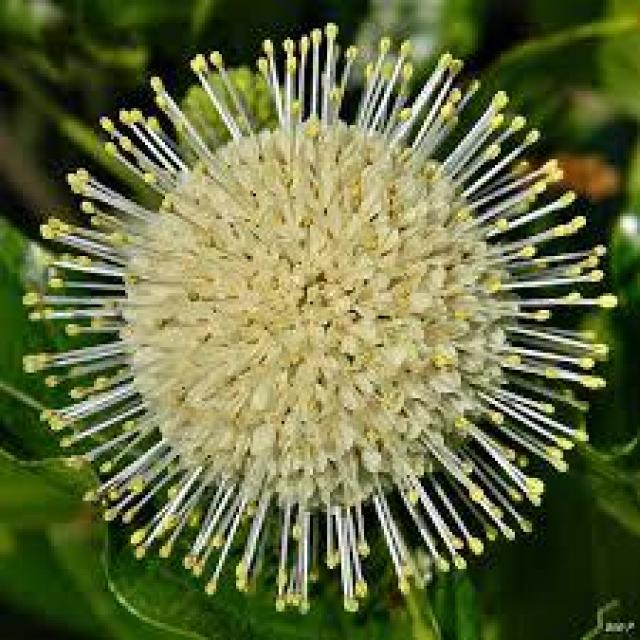organic waste: (27, 24, 619, 605)
